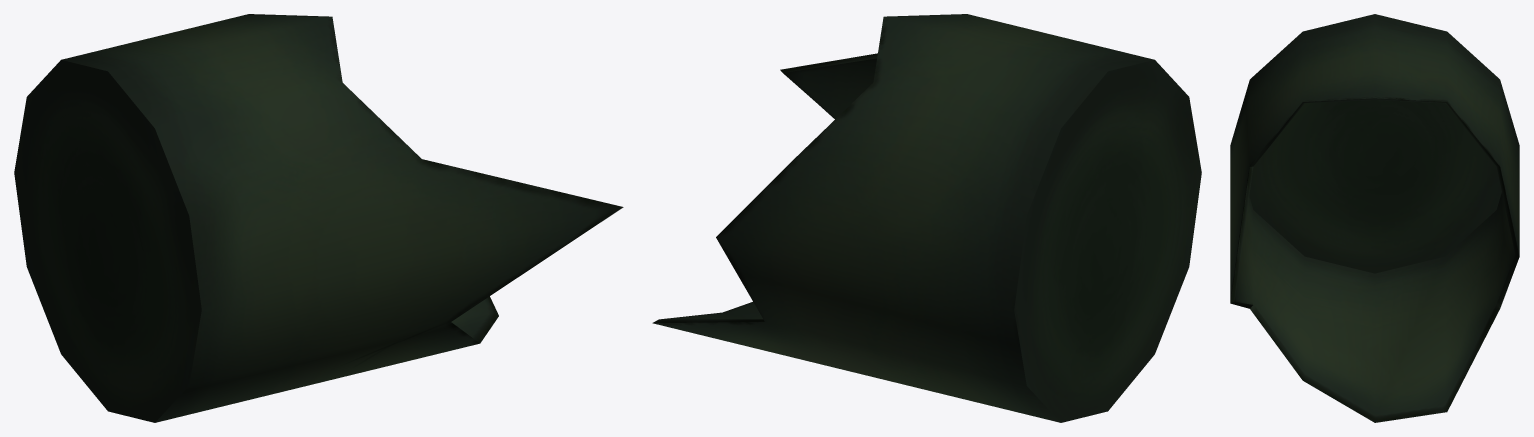
Rendered from SM_Trash_bottle_3_down.FBX.
3 views of the same model, side by side, from view 1: azimuth 30°, elevation 25°; view 2: azimuth 150°, elevation 25°; view 3: azimuth 270°, elevation 25° (orthographic). The views are drawn at different scales.
Parts seen in each view (by area): view 1: Trash_bottle_3_down; view 2: Trash_bottle_3_down; view 3: Trash_bottle_3_down.
Part boxes in pixels (box(x1,y1,x2,y2)): Trash_bottle_3_down: box(14, 14, 623, 422); Trash_bottle_3_down: box(652, 14, 1201, 422); Trash_bottle_3_down: box(1230, 14, 1519, 422).
Size of the model in its own units: 8.23 by 6.34 by 6.34.
